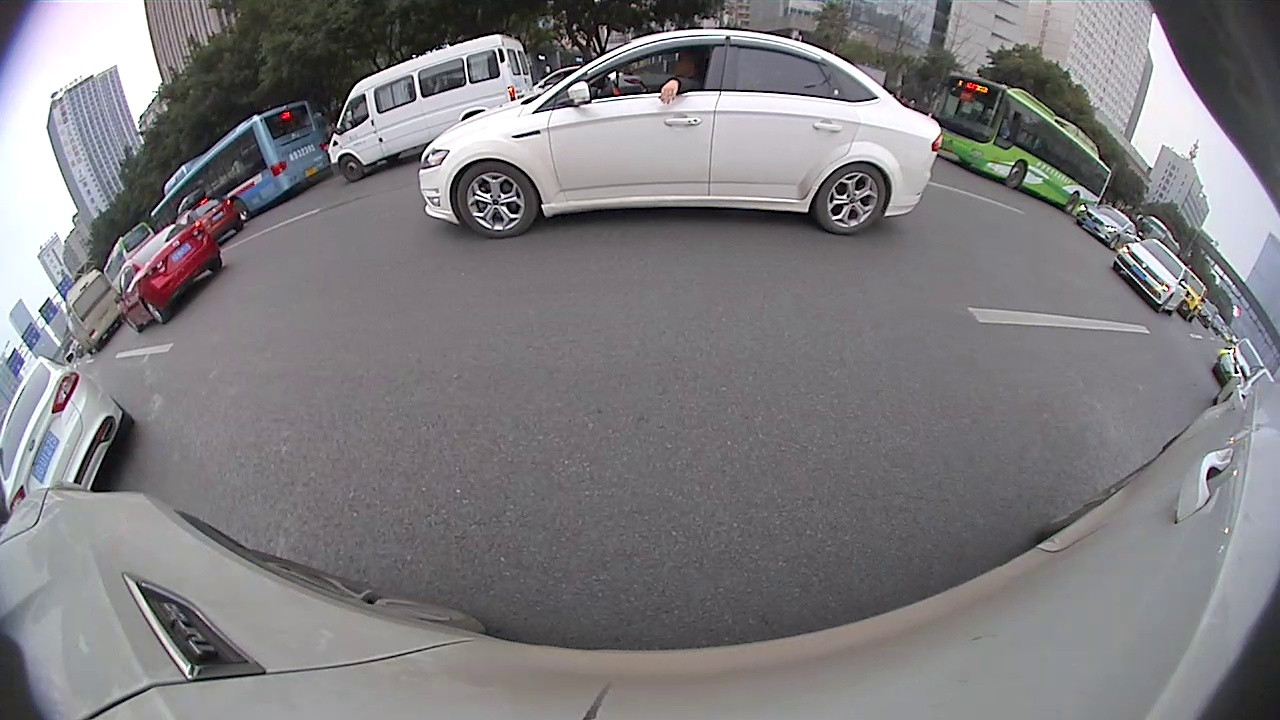bus: (935, 76, 1112, 212), (149, 102, 331, 233), (62, 271, 121, 353)
car: (423, 31, 939, 243), (336, 34, 534, 181), (3, 358, 135, 524), (119, 226, 223, 331), (1113, 239, 1188, 316), (192, 199, 243, 241)
front: (454, 160, 541, 239), (338, 153, 365, 183), (142, 299, 167, 328), (1006, 161, 1026, 189), (1109, 232, 1122, 251)
rear: (818, 163, 887, 235), (228, 196, 253, 226), (1063, 192, 1081, 214)
